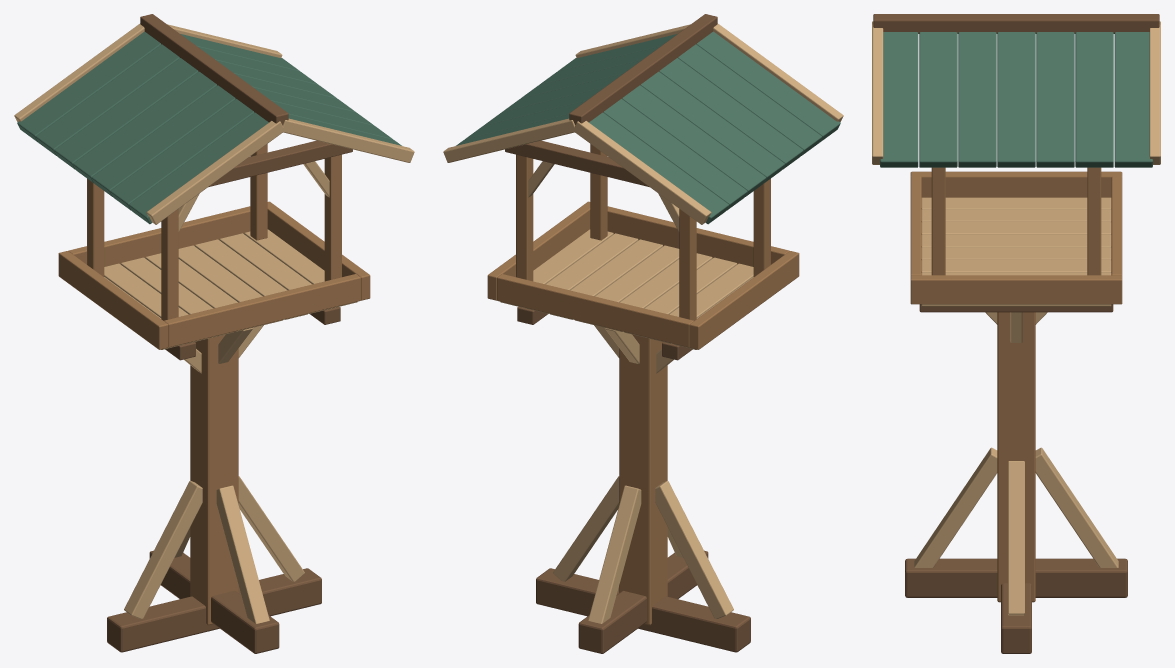
Rendered from city-roofed-bird-feeder.glb.
The picture shows the model from 3 angles, left to right: view 1: azimuth 30°, elevation 25°; view 2: azimuth 150°, elevation 25°; view 3: azimuth 270°, elevation 25°; orthographic projection. The views are drawn at different scales.
Visible parts, largest first — view 1: Assembly | Warm unfinished timber, Assembly | Patinated roof green, Assembly | Pale timber endgrain, Assembly | Dark timber braces; view 2: Assembly | Warm unfinished timber, Assembly | Patinated roof green, Assembly | Pale timber endgrain, Assembly | Dark timber braces; view 3: Assembly | Patinated roof green, Assembly | Pale timber endgrain, Assembly | Warm unfinished timber, Assembly | Dark timber braces.
Part boxes in pixels (left/top/right/bottom): Assembly | Warm unfinished timber: left=58, top=144, right=370, bottom=625; Assembly | Patinated roof green: left=17, top=31, right=401, bottom=224; Assembly | Pale timber endgrain: left=14, top=23, right=414, bottom=623; Assembly | Dark timber braces: left=107, top=14, right=352, bottom=653; Assembly | Warm unfinished timber: left=487, top=144, right=799, bottom=625; Assembly | Patinated roof green: left=456, top=31, right=840, bottom=224; Assembly | Pale timber endgrain: left=443, top=23, right=843, bottom=623; Assembly | Dark timber braces: left=505, top=14, right=750, bottom=653; Assembly | Patinated roof green: left=880, top=32, right=1152, bottom=167; Assembly | Pale timber endgrain: left=872, top=21, right=1160, bottom=615; Assembly | Warm unfinished timber: left=910, top=167, right=1122, bottom=602; Assembly | Dark timber braces: left=873, top=14, right=1159, bottom=653.
Size of the model in its own units: 0.8804 by 1.77 by 0.791.
